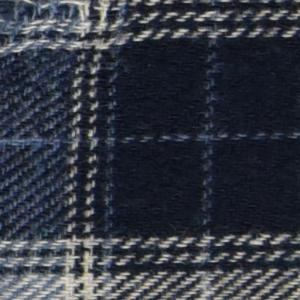Damage: (1, 2, 137, 64)
